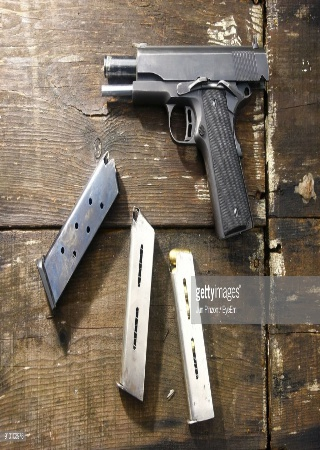handgun: (99, 40, 273, 236)
